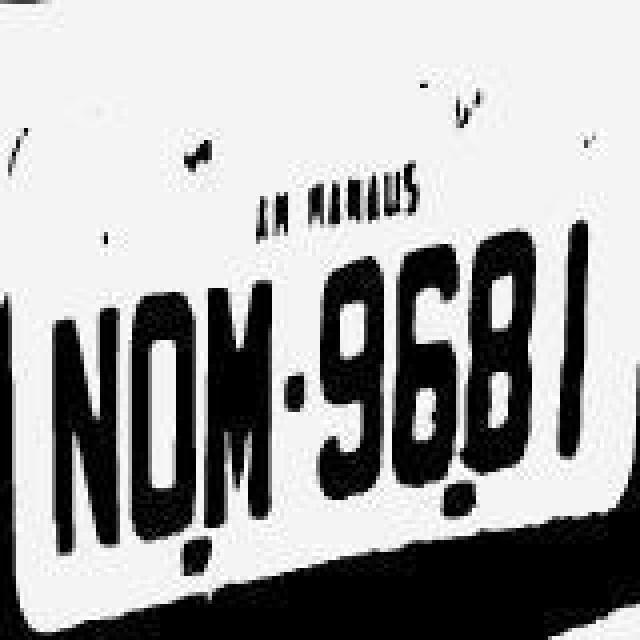1: (532, 216, 604, 504)
6: (386, 236, 462, 516)
8: (462, 214, 546, 506)
9: (312, 242, 392, 526)
M: (200, 256, 280, 552)
N: (40, 296, 120, 568)
O: (120, 286, 200, 562)
